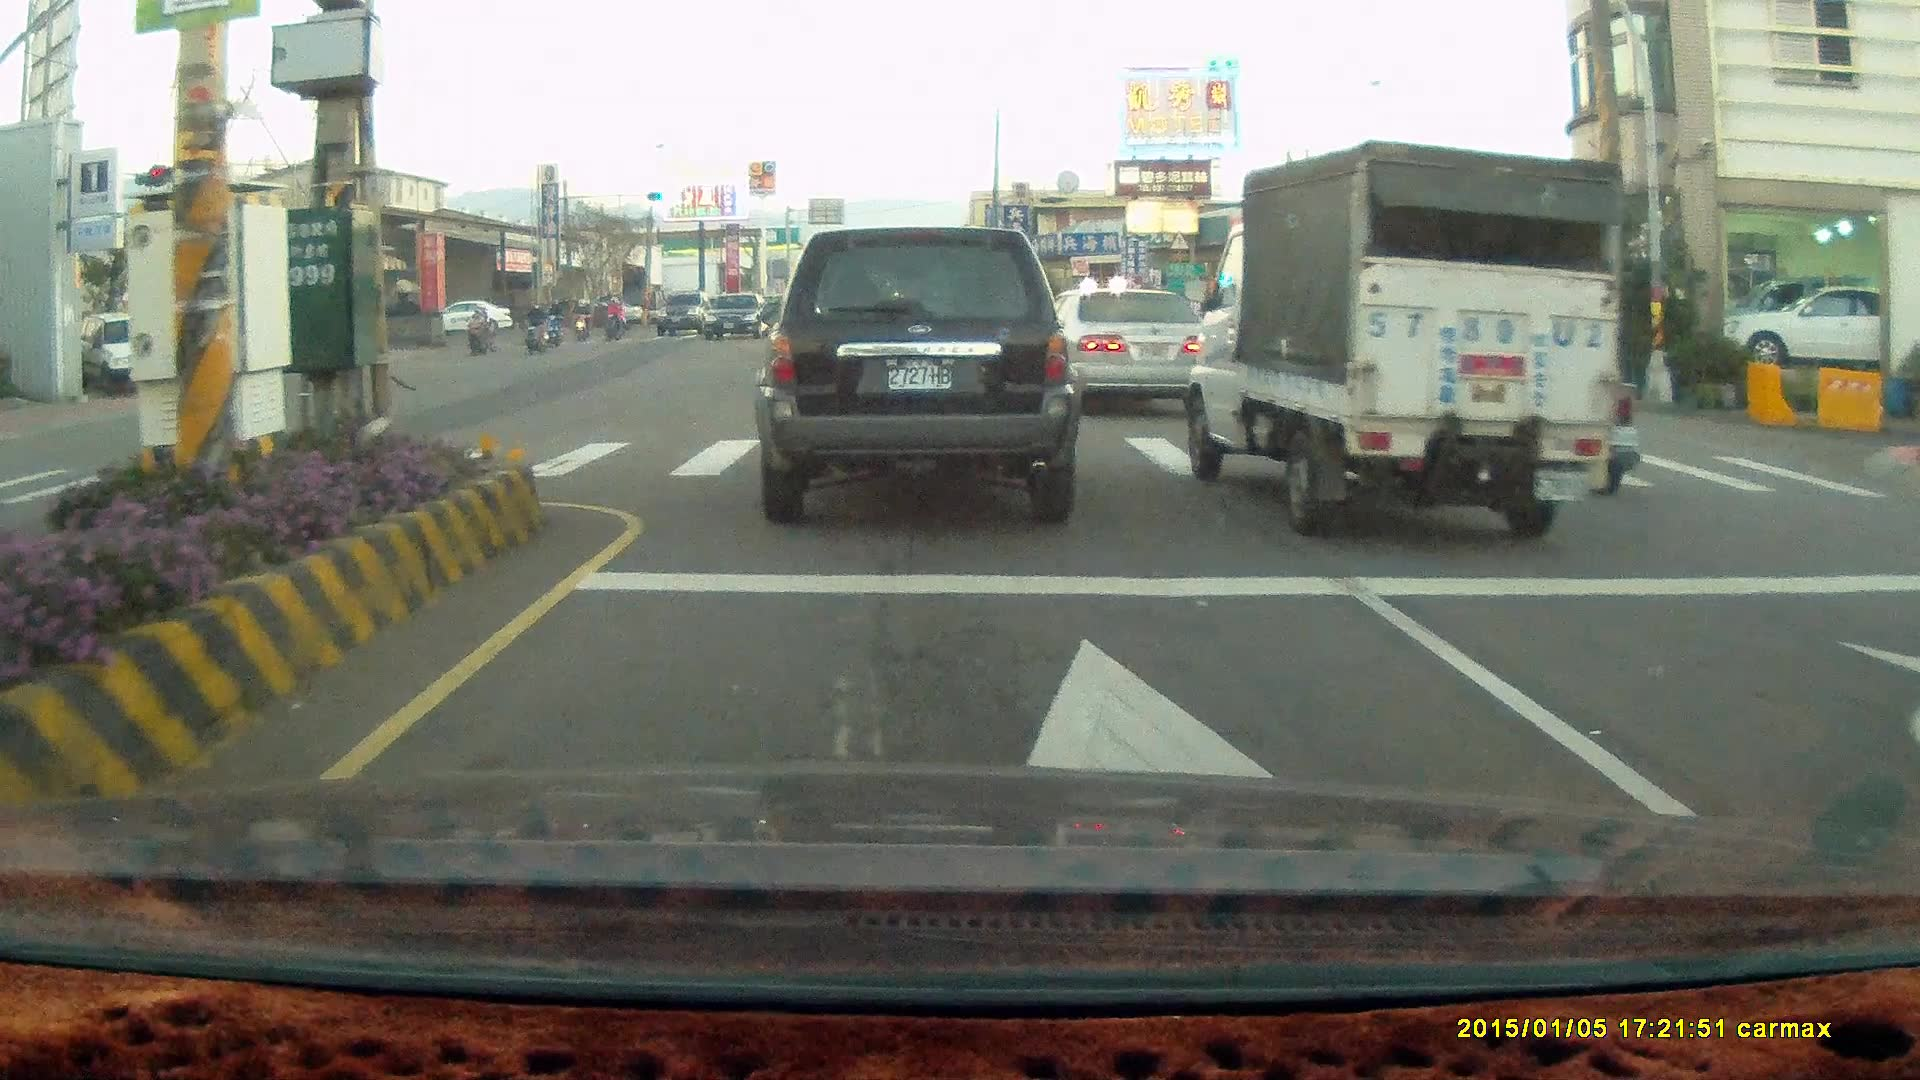rider: (461, 302, 498, 358), (520, 303, 549, 357), (542, 295, 566, 349), (570, 295, 593, 339), (603, 297, 623, 338)
vehicle: (1187, 138, 1624, 541), (752, 225, 1083, 528), (1029, 287, 1215, 414), (1054, 289, 1221, 422), (1716, 282, 1919, 376), (1730, 286, 1883, 374), (65, 314, 173, 391), (701, 294, 771, 345), (443, 301, 515, 338)
